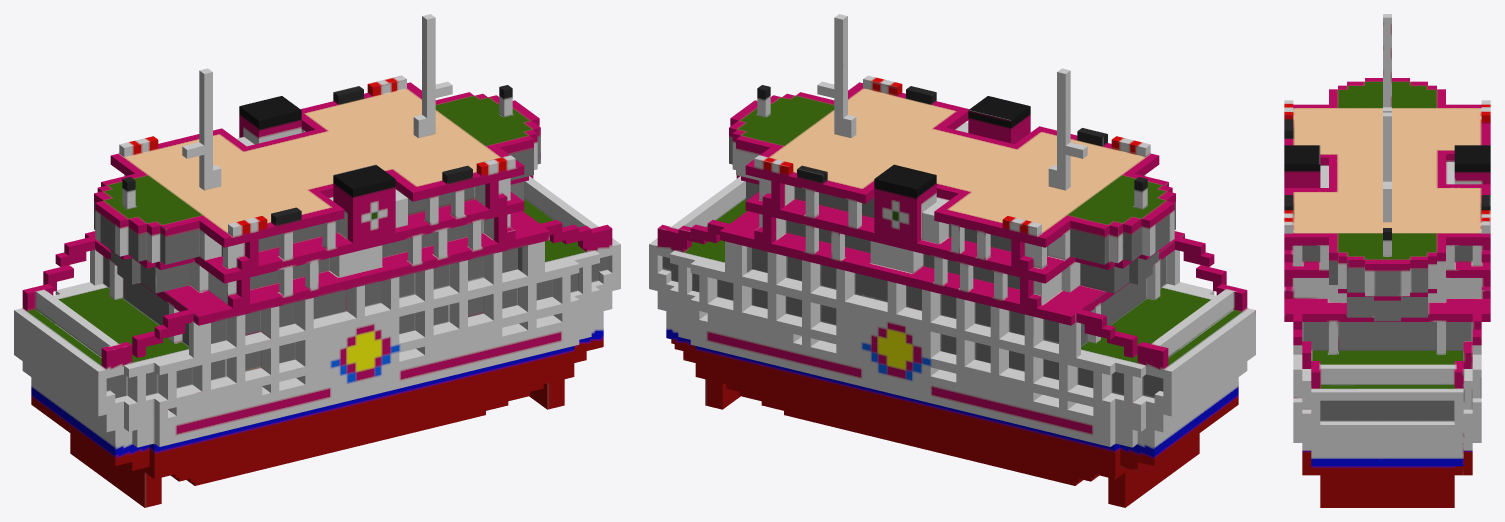
Rendered from sakurajimaferry.glb.
The picture shows the model from 3 angles, left to right: view 1: azimuth 30°, elevation 25°; view 2: azimuth 150°, elevation 25°; view 3: azimuth 270°, elevation 25°; orthographic projection. The views are drawn at different scales.
Visible parts, largest first — view 1: sakurajimaferry; view 2: sakurajimaferry; view 3: sakurajimaferry.
Part boxes in pixels (x1,y1,x2,y2): sakurajimaferry: [14, 14, 620, 507]; sakurajimaferry: [649, 14, 1255, 507]; sakurajimaferry: [1284, 14, 1490, 507].
Size of the model in its own units: 1.22 by 0.86 by 0.46.
Materials: 1 (1 with a texture image).
